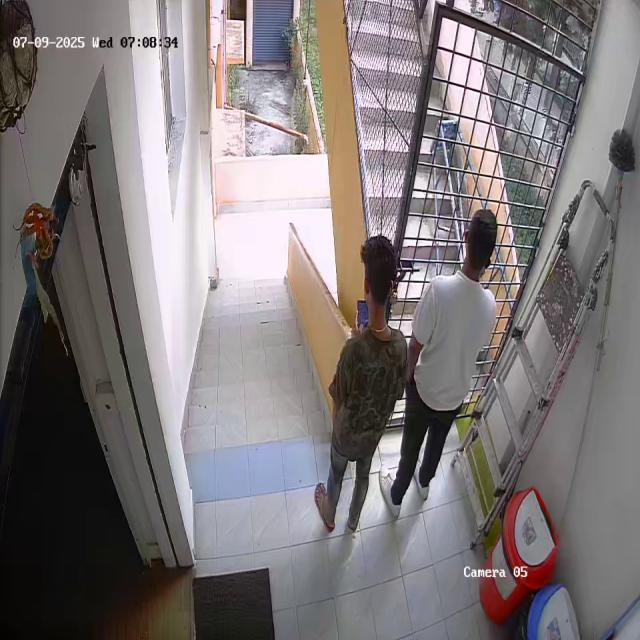person: (412, 208, 503, 526), (323, 231, 406, 554)
